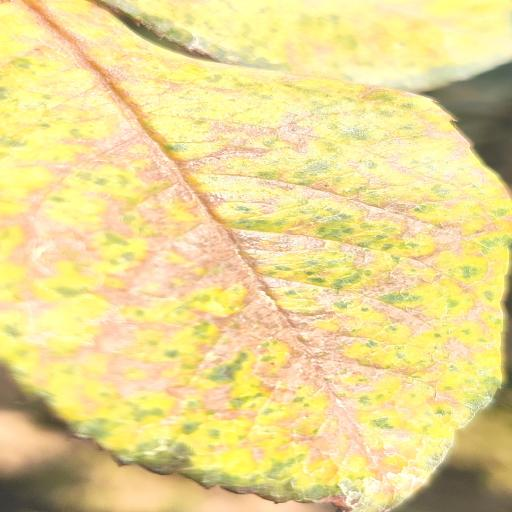red_mite: (0, 0, 510, 512), (102, 0, 512, 91)
